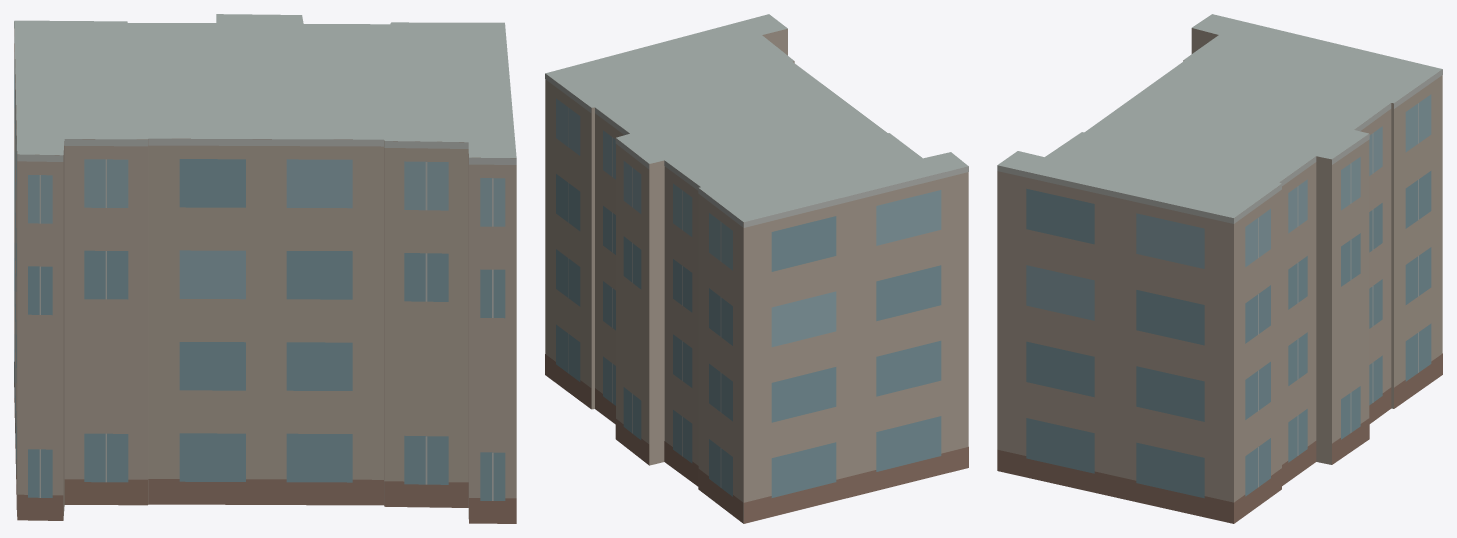
File: survey-upis-33010116.glb
3 views of the same model, side by side, from view 1: azimuth 30°, elevation 25°; view 2: azimuth 150°, elevation 25°; view 3: azimuth 270°, elevation 25° (orthographic). The views are drawn at different scales.
Parts seen in each view (by area): view 1: survey-upis-33010116.tmp; view 2: survey-upis-33010116.tmp; view 3: survey-upis-33010116.tmp.
Part boxes in pixels (bbox=[...]): survey-upis-33010116.tmp: bbox=[14, 14, 516, 523]; survey-upis-33010116.tmp: bbox=[545, 14, 968, 523]; survey-upis-33010116.tmp: bbox=[997, 14, 1442, 523].
Bounding box in the file's own units: 18.49 × 12.9 × 17.05.
